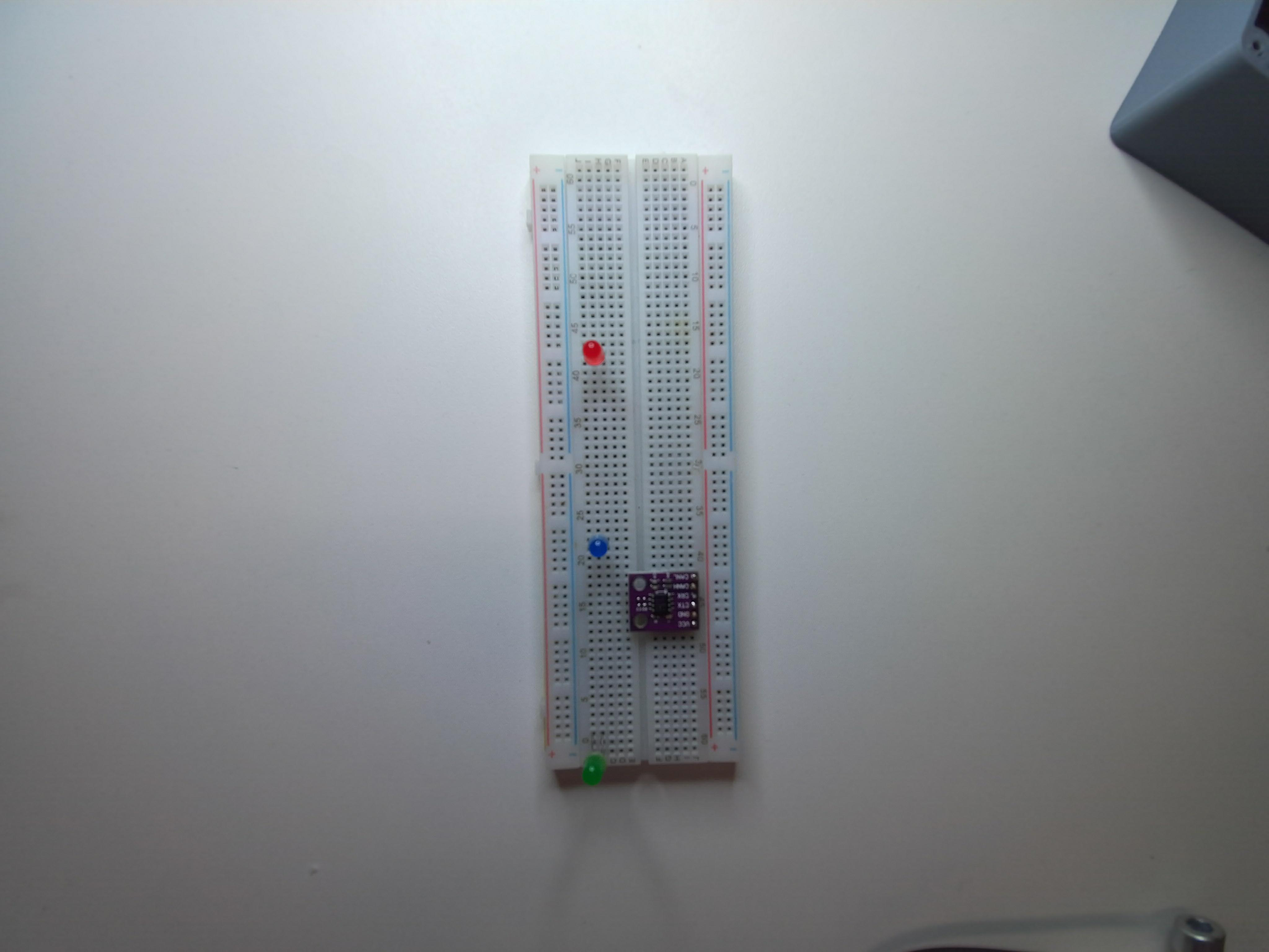base: (519, 147, 749, 797)
blue-led: (586, 535, 612, 561)
green-led: (576, 747, 610, 788)
purple-board: (626, 571, 705, 641)
red-led: (578, 337, 608, 370)
